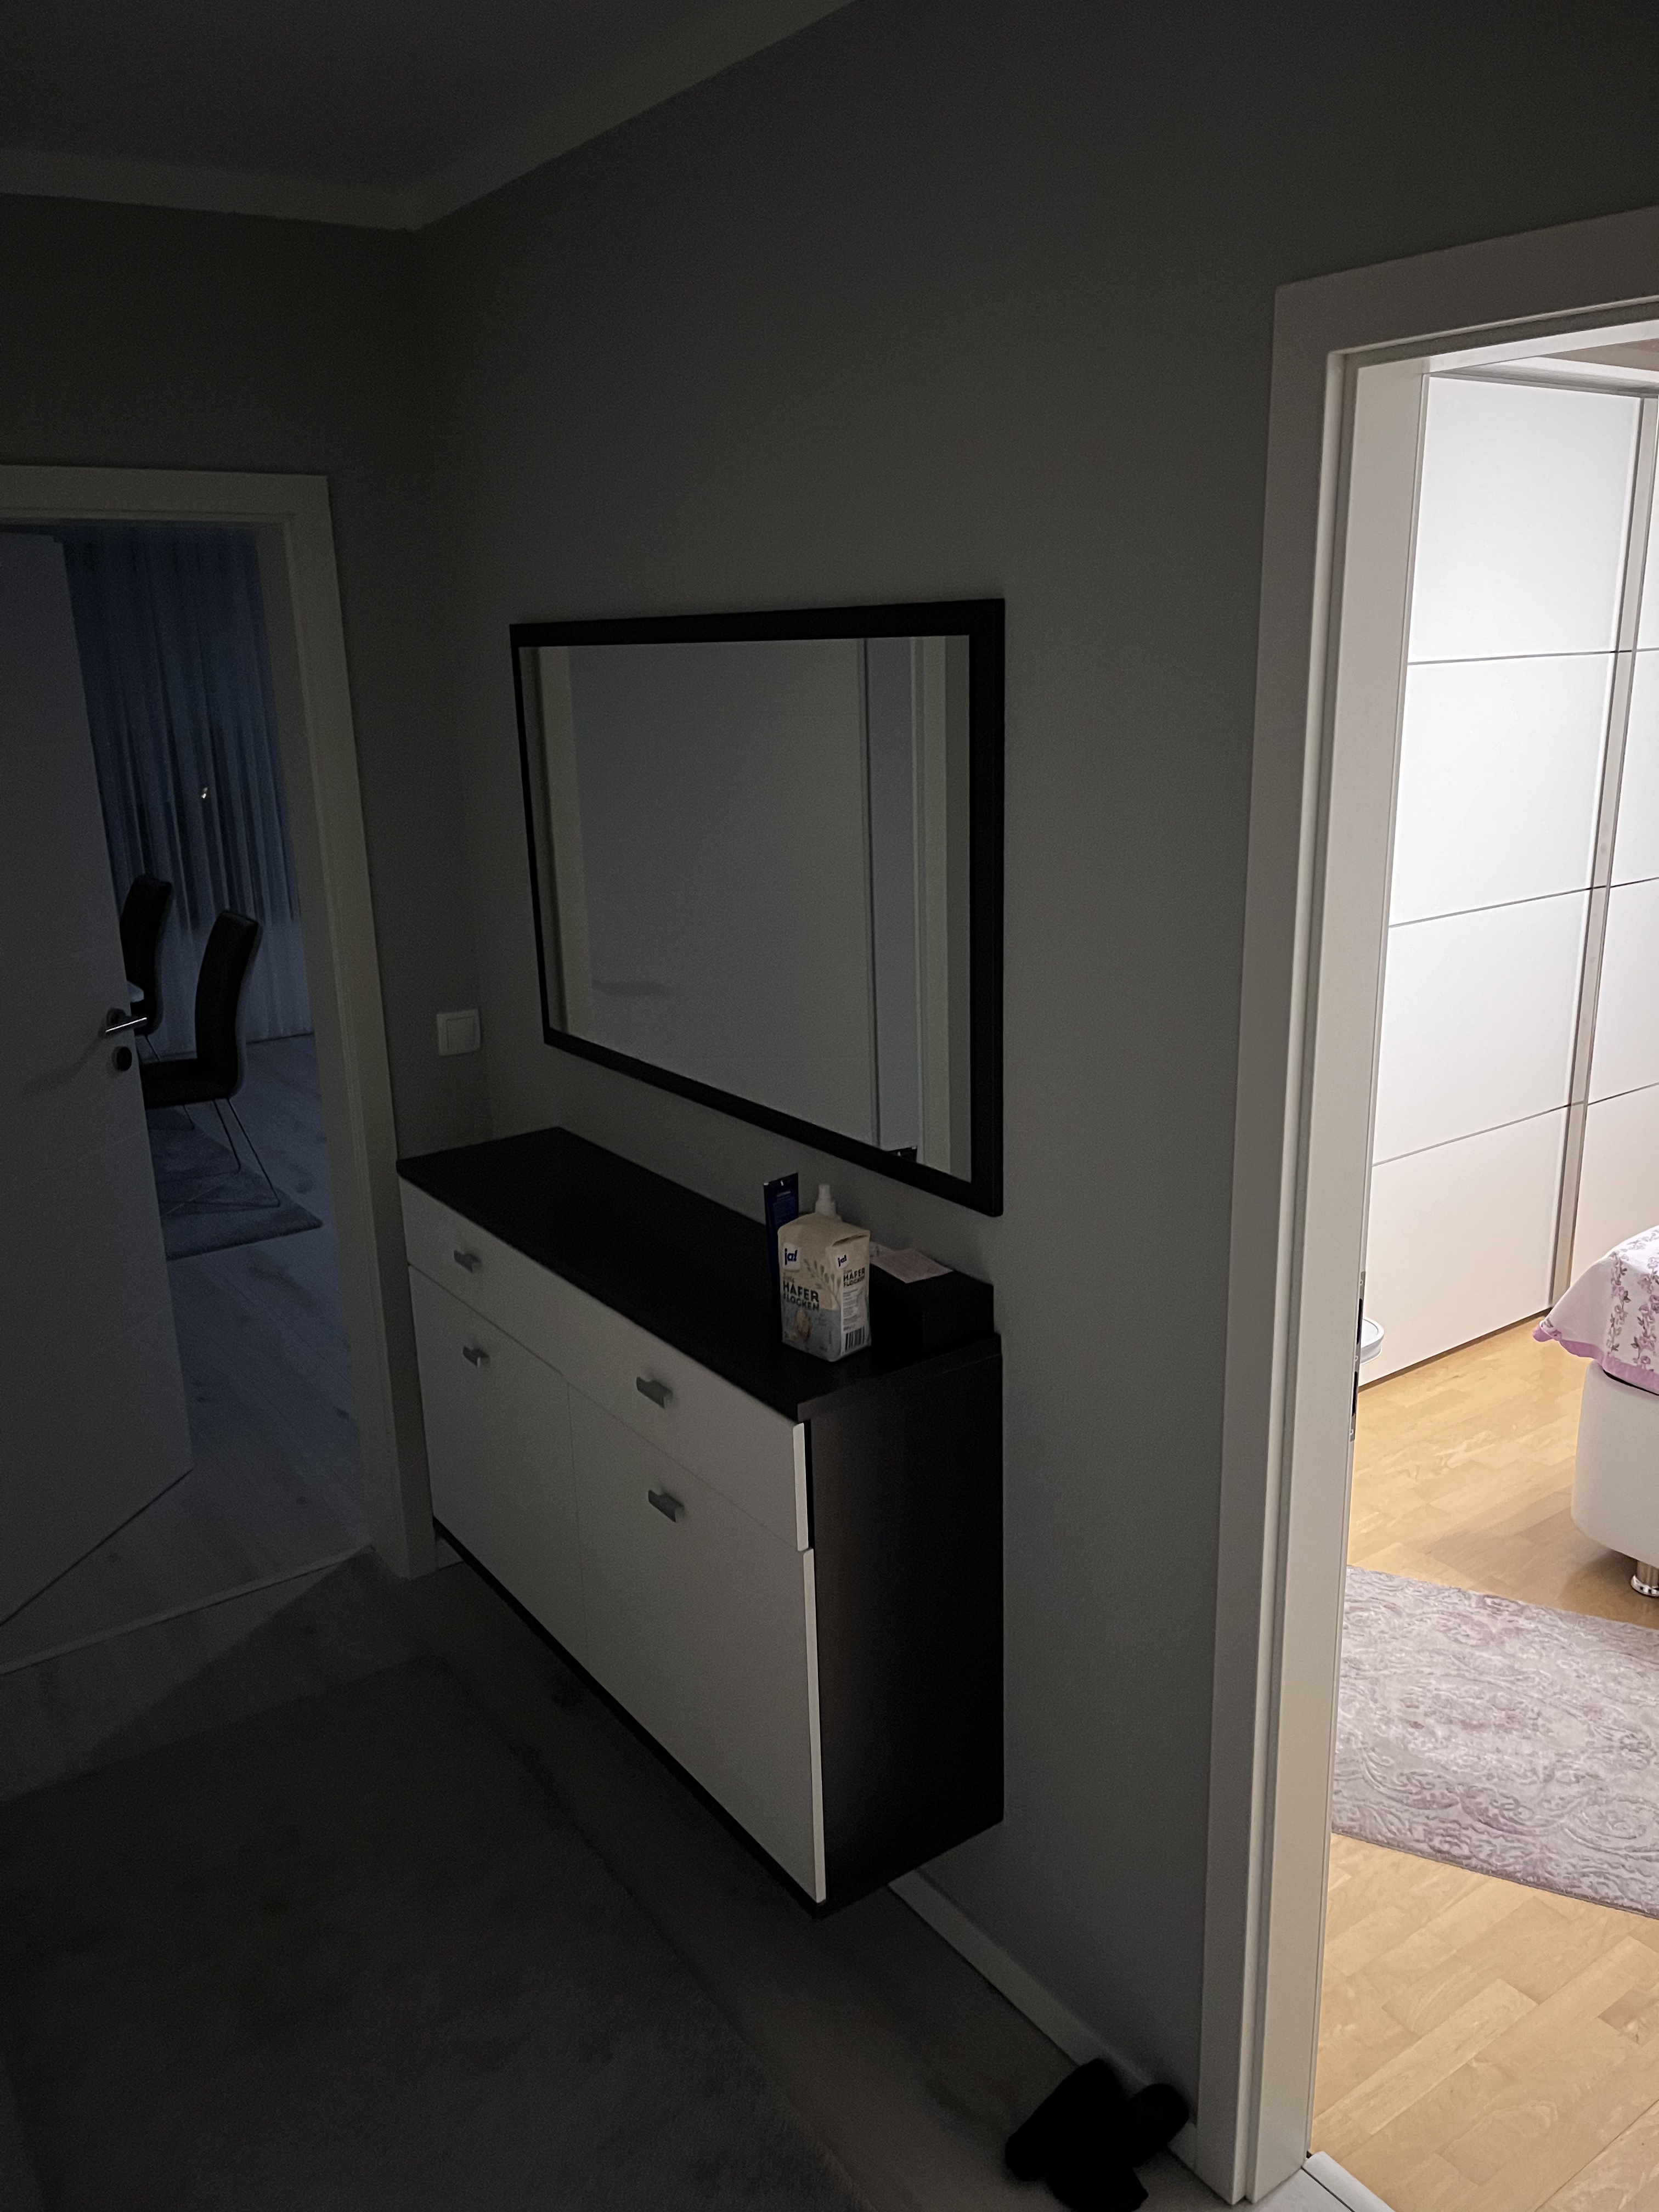haferflocken_ja: (774, 1211, 875, 1362)
